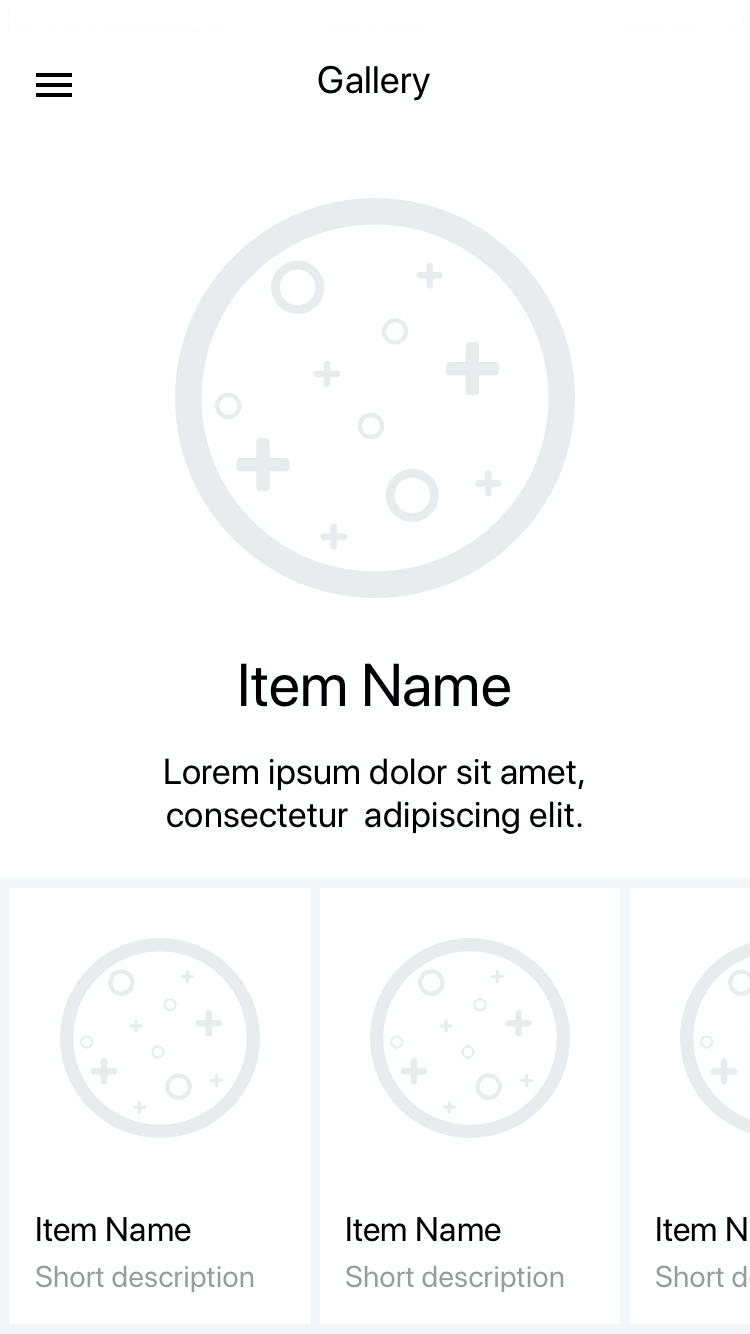Icon: (36, 73, 74, 99)
Image: (176, 199, 579, 599), (371, 938, 572, 1139), (61, 939, 261, 1136), (679, 939, 750, 1140)
Text: (165, 758, 584, 834), (240, 663, 510, 708), (346, 1265, 564, 1293), (35, 1265, 257, 1292), (37, 1215, 193, 1242), (346, 1216, 501, 1242), (318, 66, 430, 101), (657, 1216, 750, 1241), (656, 1265, 750, 1288)
